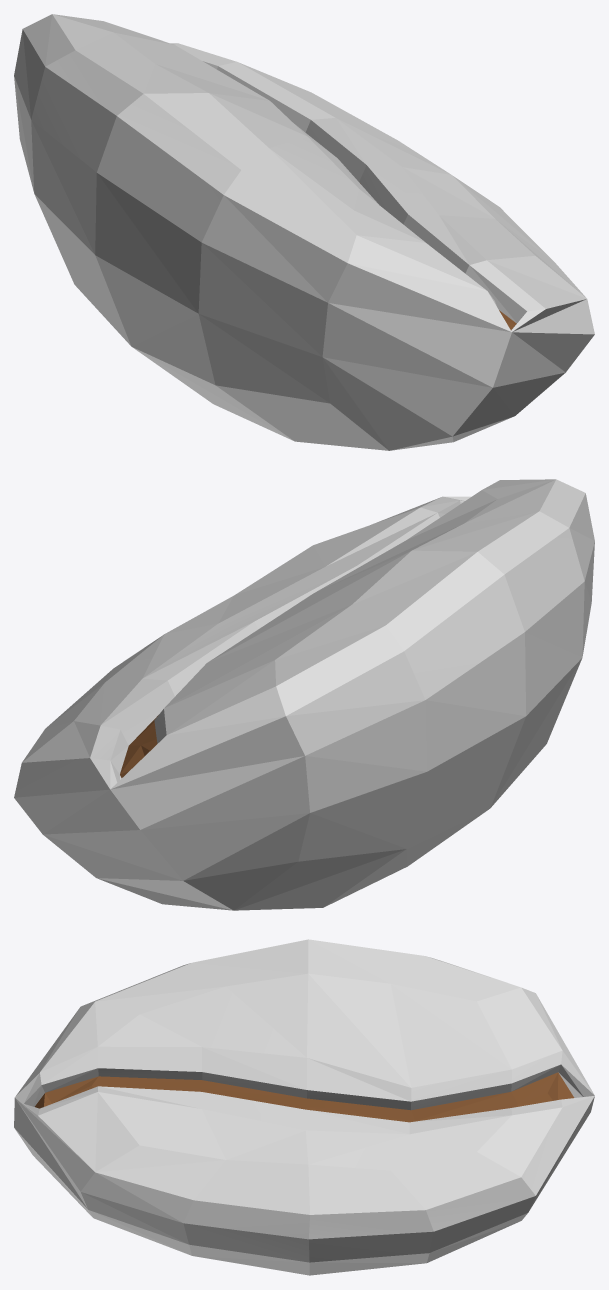
Rendered from 0coffeeBean.fbx.
3 renders of one model, top to bottom at view 1: azimuth 30°, elevation 25°; view 2: azimuth 150°, elevation 25°; view 3: azimuth 270°, elevation 25°, orthographic. The views are drawn at different scales.
Parts seen in each view (by area): view 1: coffeeBean; view 2: coffeeBean; view 3: coffeeBean.
Part boxes in pixels (x1,y1,x2,y2): coffeeBean: (14, 14, 594, 450); coffeeBean: (14, 479, 594, 910); coffeeBean: (14, 939, 594, 1275).
Bounding box in the file's own units: 141 × 117 × 236.
